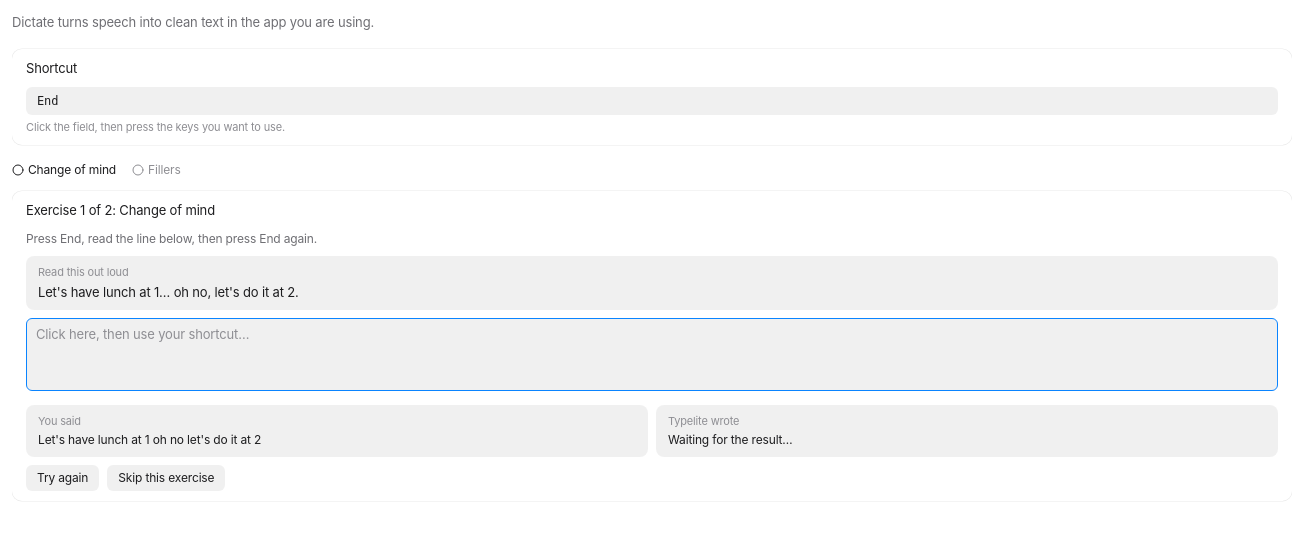
Test: Dictate exercises › shows the script with the current binding and the before/after of a passing run
Expected: the text "Exercise 1 of 2: Change of mind" is shown, [26,202,215,218]
Expected: the text "Press End, read the line below, then press End again." is shown, [26,231,317,246]
In the text box named "Try it": (652, 354) [26,318,1278,391], type "Let's have lunch at 2."
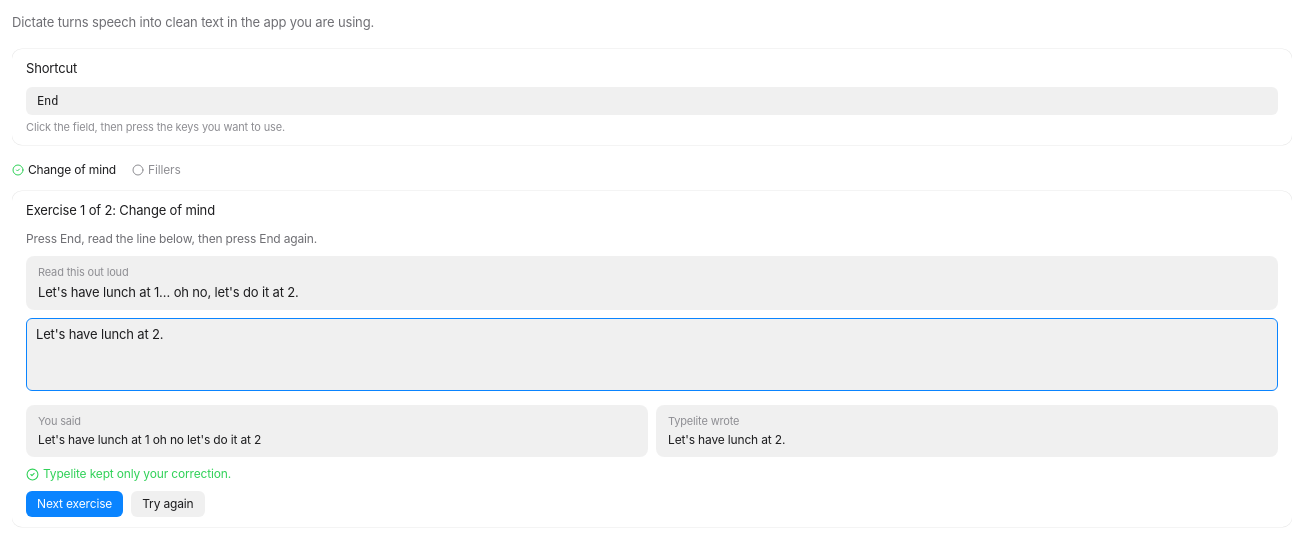
Expected: the text "Let's have lunch at 1 oh no let's do it at 2" is shown, [38,432,261,447]
Result: the text "Let's have lunch at 2." is shown at [668,432,785,447]
Result: the text "Typelite kept only your correction." is shown at [26,466,231,481]
Click the button "Next exercise": (75, 504) [26,491,123,517]
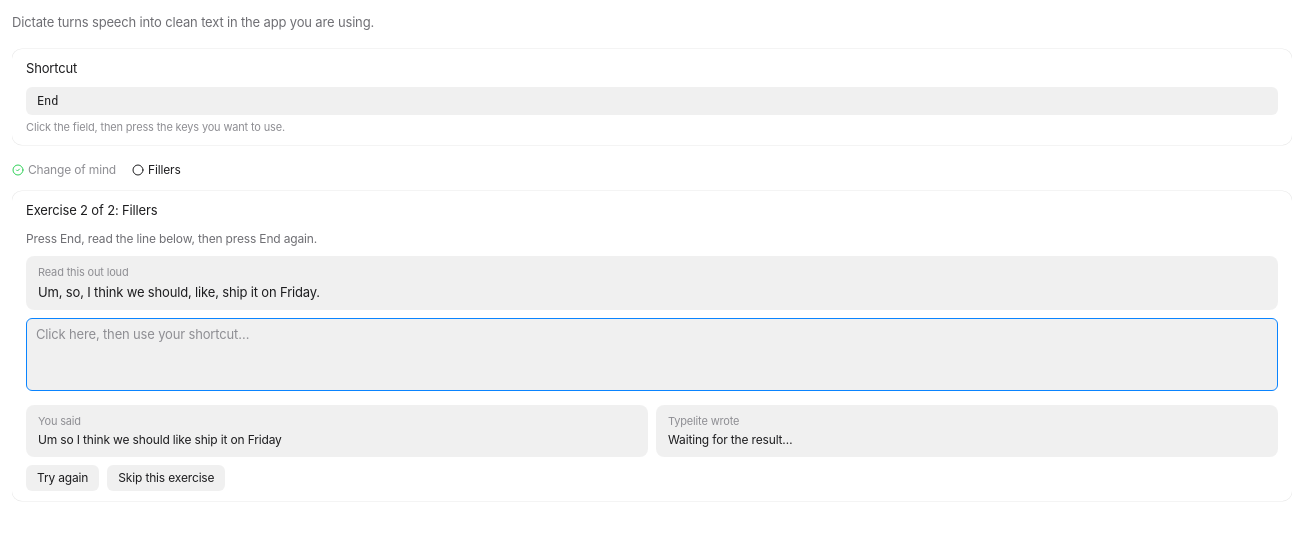
Result: the text "Exercise 2 of 2: Fillers" is shown at [26,202,157,218]
Result: the text box named "Try it" is empty
In the text box named "Try it": (652, 354) [26,318,1278,391], type "I think we should ship it on Friday."
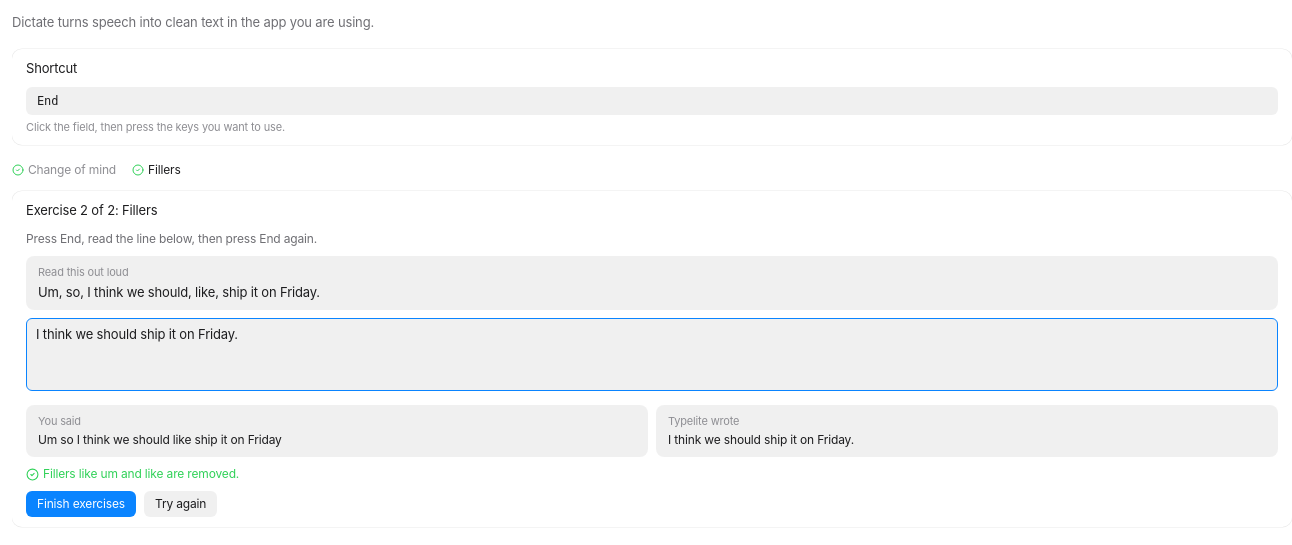
Result: the text "Fillers like um and like are removed." is shown at [26,466,239,481]
Click the button "Finish exercises": (81, 504) [26,491,136,517]
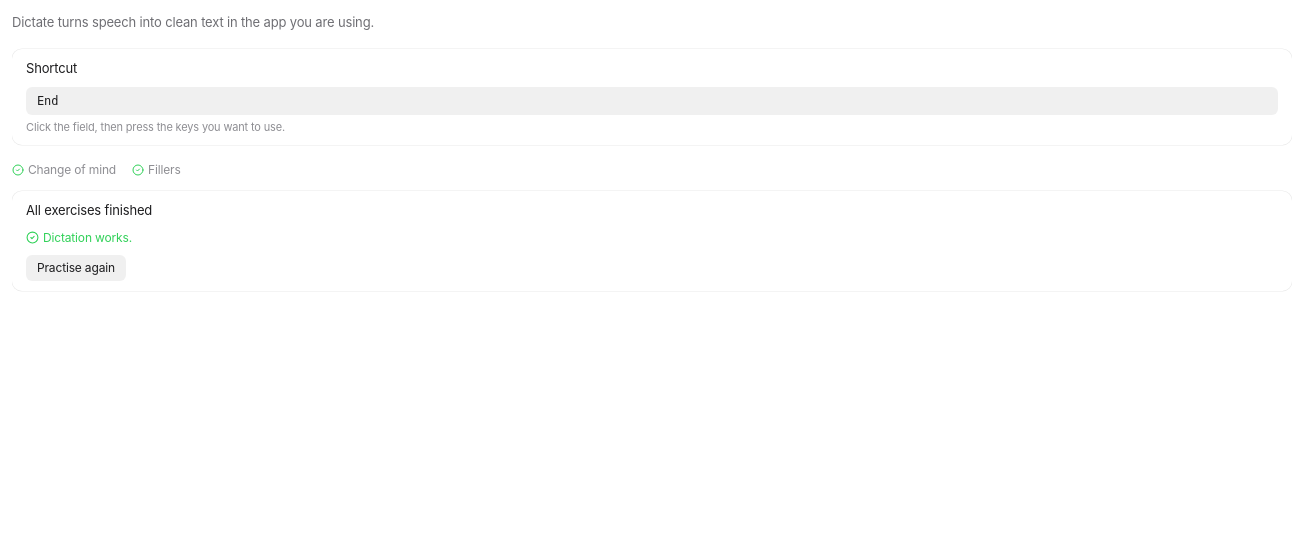
Result: the text "All exercises finished" is shown at [26,202,152,218]
Result: the text "Dictation works." is shown at [26,230,132,245]
